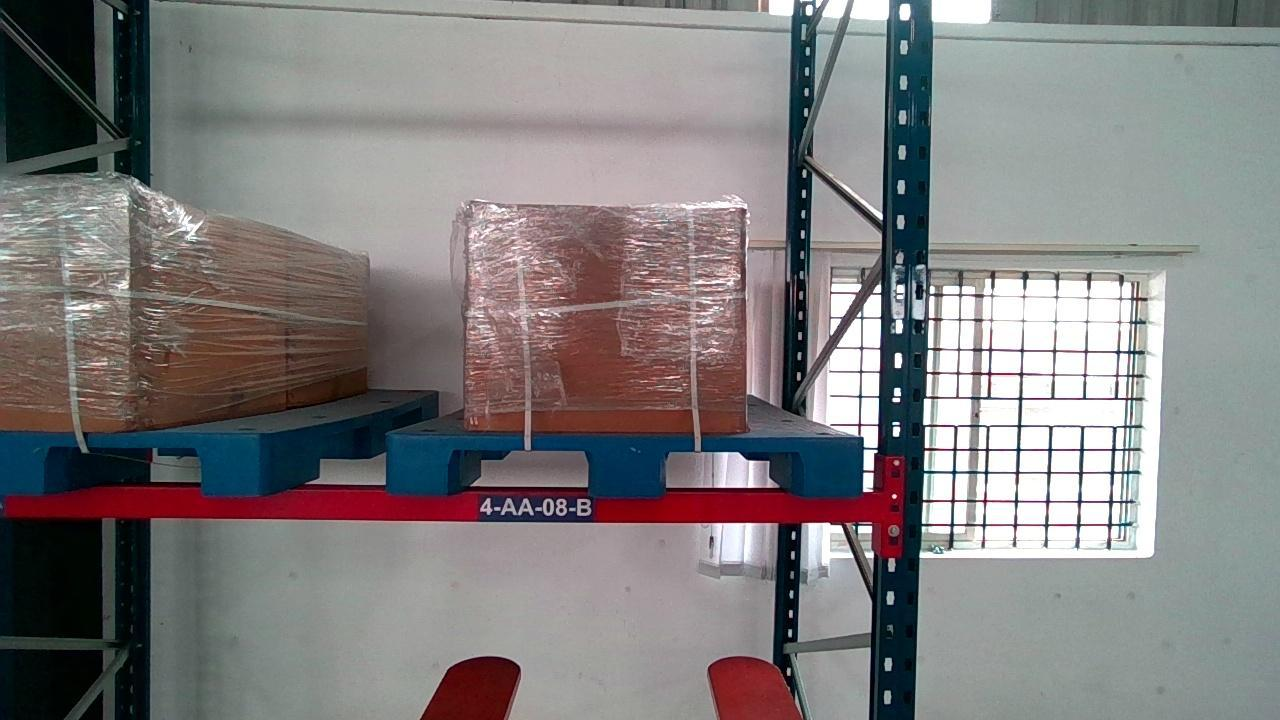h_rack: (3, 487, 880, 521)
small_pallet: (386, 433, 860, 487), (0, 434, 261, 493)
